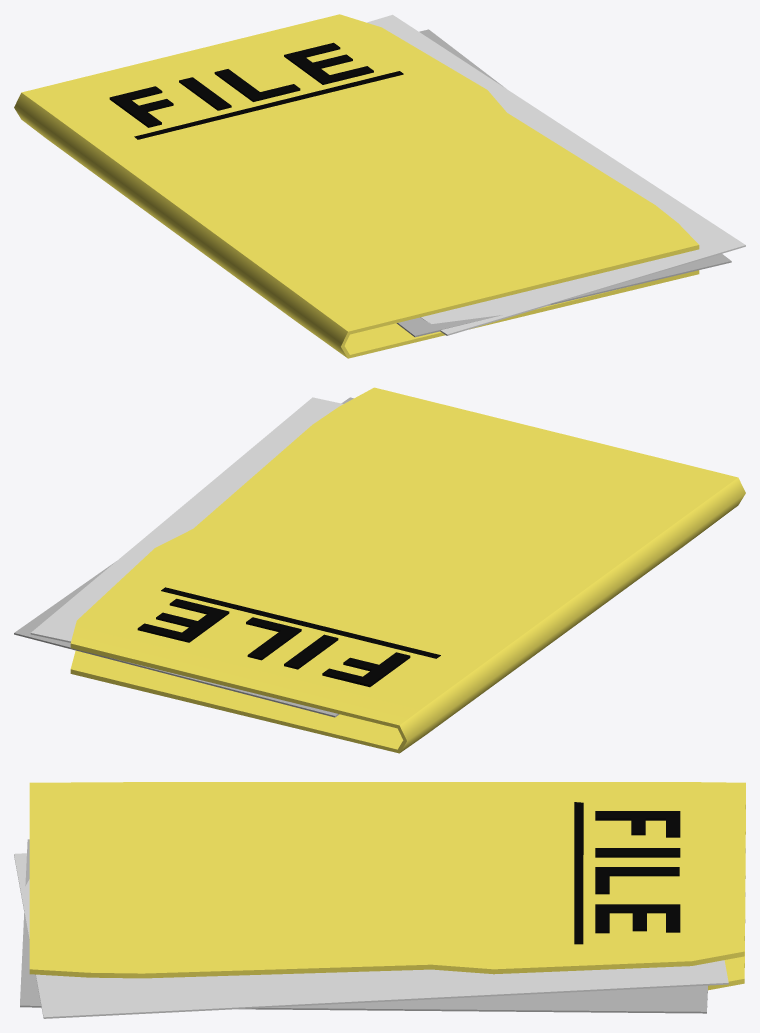
Rendered from File cuts fbx.fbx.
The picture shows the model from 3 angles, top to bottom: view 1: azimuth 30°, elevation 25°; view 2: azimuth 150°, elevation 25°; view 3: azimuth 270°, elevation 25°; orthographic projection. The views are drawn at different scales.
Visible parts, largest first — view 1: polySurface1, pPlane2, typeMesh1, pPlane1, polySurface2; view 2: polySurface1, pPlane2, typeMesh1, pPlane1, polySurface2; view 3: polySurface1, pPlane2, pPlane1, typeMesh1, polySurface2.
Part boxes in pixels (x1,y1,x2,y2): polySurface1: [14, 14, 699, 358]; pPlane2: [367, 14, 745, 335]; typeMesh1: [109, 42, 373, 127]; pPlane1: [396, 29, 731, 337]; polySurface2: [134, 71, 403, 139]; polySurface1: [70, 387, 745, 753]; pPlane2: [30, 397, 343, 642]; typeMesh1: [137, 598, 410, 687]; pPlane1: [14, 397, 353, 717]; polySurface2: [161, 587, 440, 658]; polySurface1: [29, 782, 745, 990]; pPlane2: [14, 853, 728, 1018]; pPlane1: [20, 839, 707, 1013]; typeMesh1: [595, 811, 680, 933]; polySurface2: [574, 802, 583, 944].
Size of the model in its own units: 8.67 by 0.622 by 12.16.
